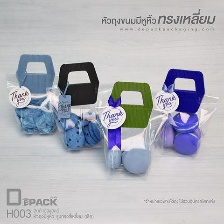snack: (91, 77, 171, 181), (142, 63, 222, 164), (42, 56, 114, 155), (0, 47, 65, 140)
